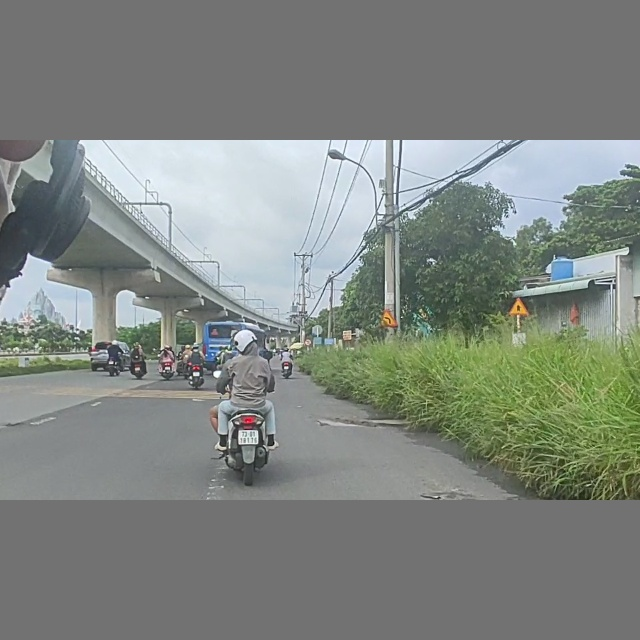P.123a: (304, 338, 312, 346)
W.201a: (378, 309, 401, 328)
W.207: (508, 296, 530, 317)
